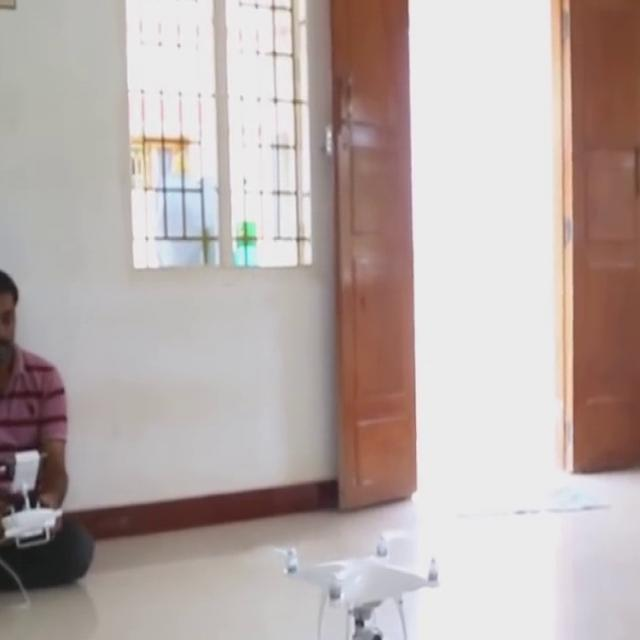drone: (250, 529, 464, 640)
